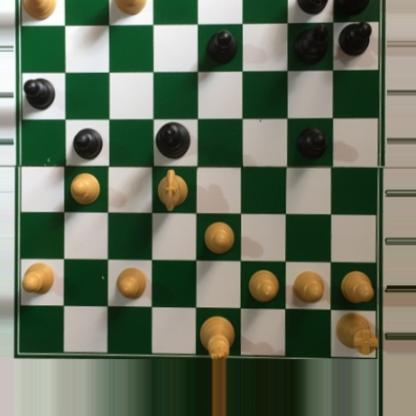black-bishop: (289, 21, 328, 64)
black-king: (154, 119, 192, 162)
black-knight: (294, 0, 333, 17)
black-pawn: (337, 19, 373, 56), (205, 27, 237, 66), (69, 126, 104, 161), (21, 77, 56, 111), (294, 127, 327, 160)
black-rook: (332, 0, 379, 20)
white-king: (195, 313, 235, 360)
white-knight: (154, 167, 190, 214)
white-pawn: (114, 262, 150, 302), (245, 268, 282, 305), (68, 168, 103, 207), (291, 268, 326, 305), (20, 259, 56, 294), (336, 266, 374, 299), (199, 219, 231, 256)
white-queen: (14, 0, 57, 20)
white-rook: (332, 309, 379, 355), (107, 0, 146, 17)
